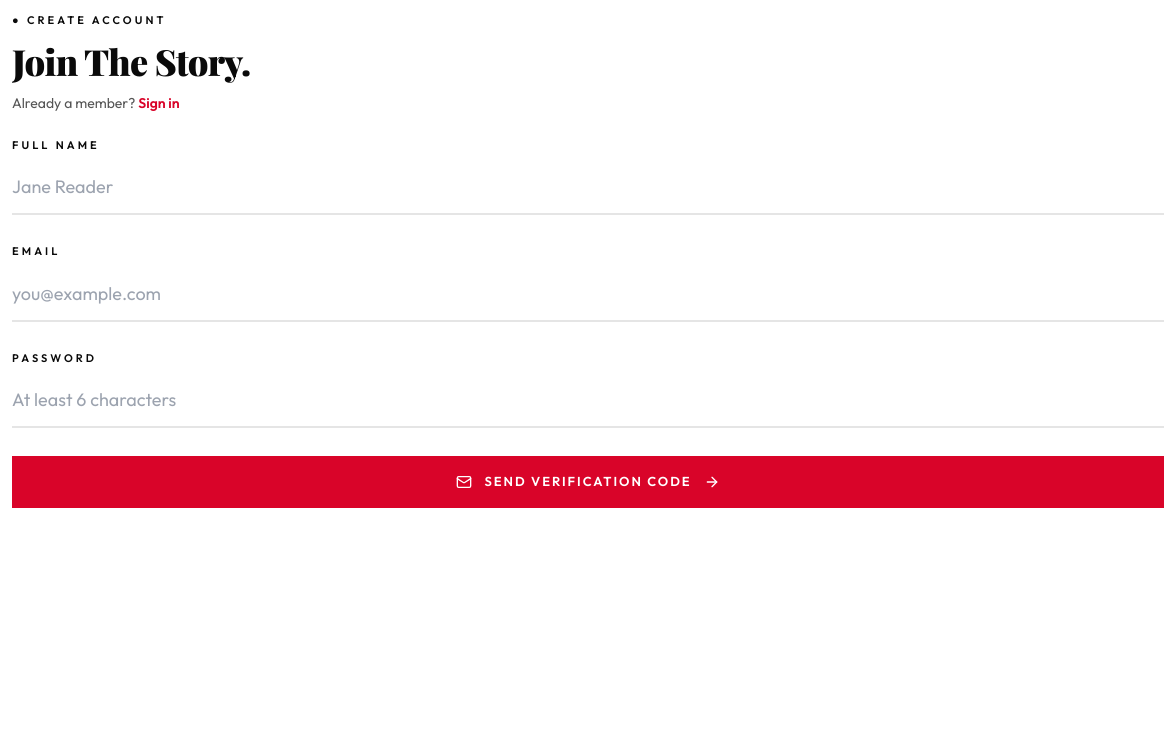
Scenario: SignupPage › shows resend button on step 2
The image size is (1176, 732).
Type "Test" into the field with placeholder "Jane Reader" at (588, 188), box [12,161,1164,215]
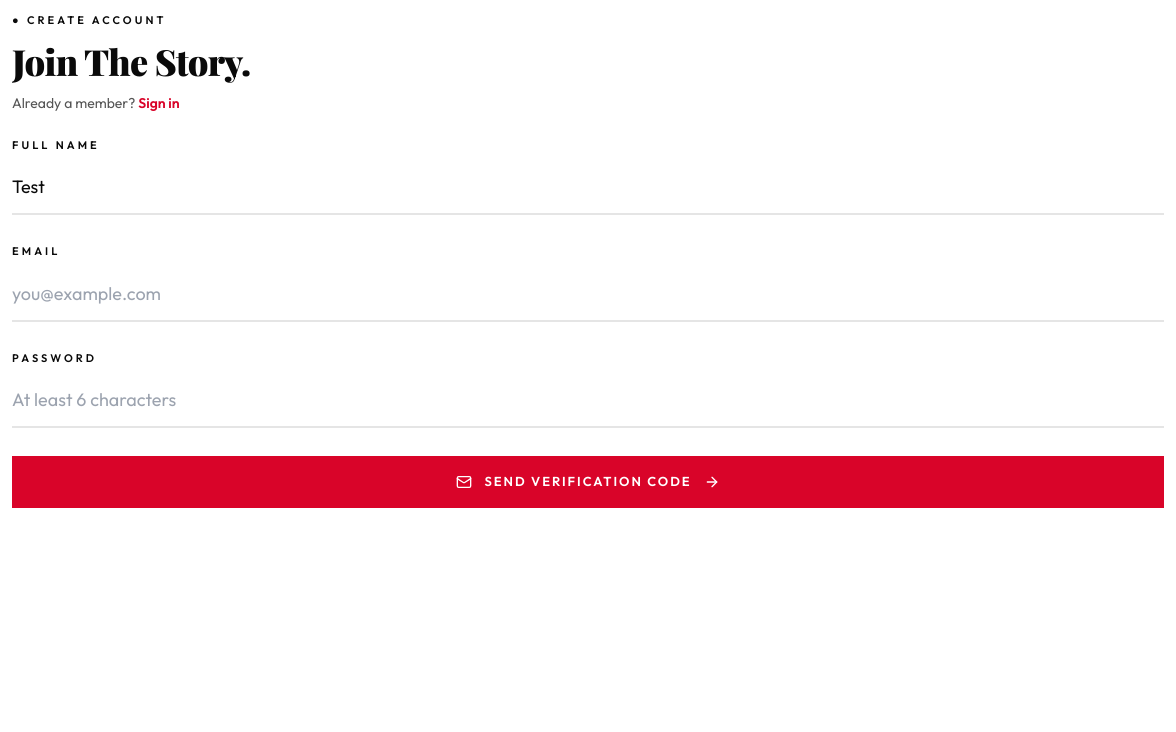
Type "a@b.com" into the field with placeholder "you@example.com" at (588, 294), box [12,268,1164,322]
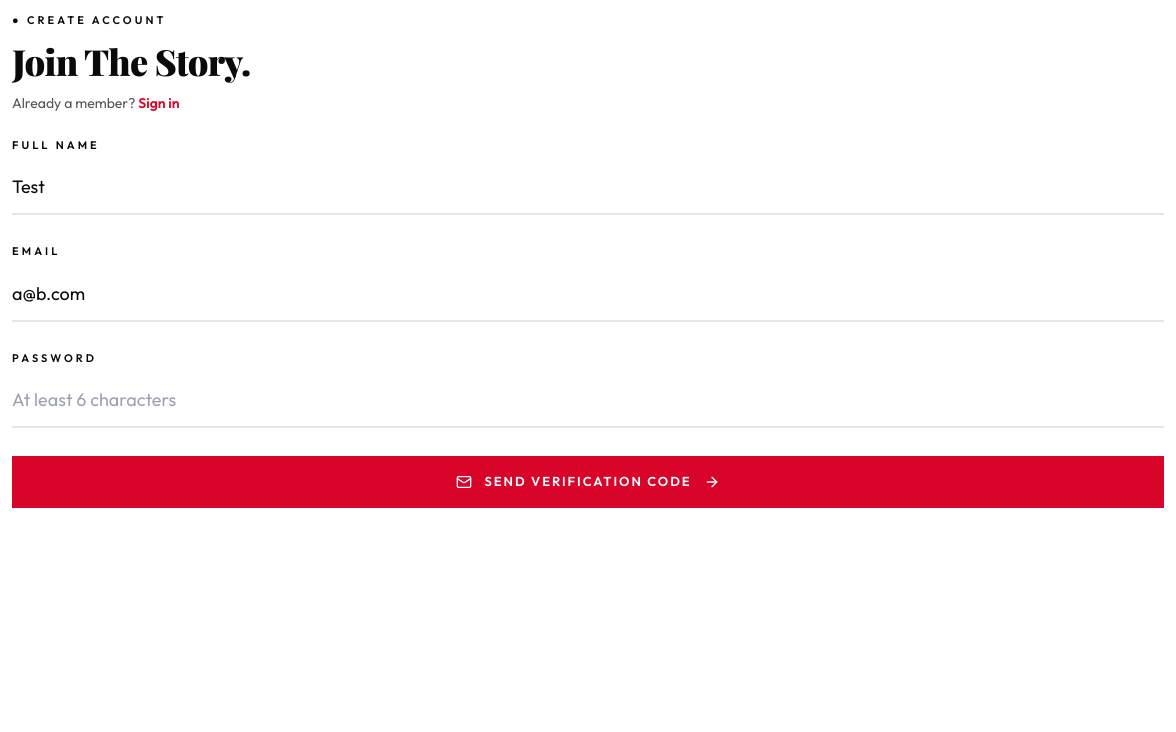
Type "pass1234" into the password field with placeholder "At least 6 characters" at (588, 401), box [12,374,1164,428]
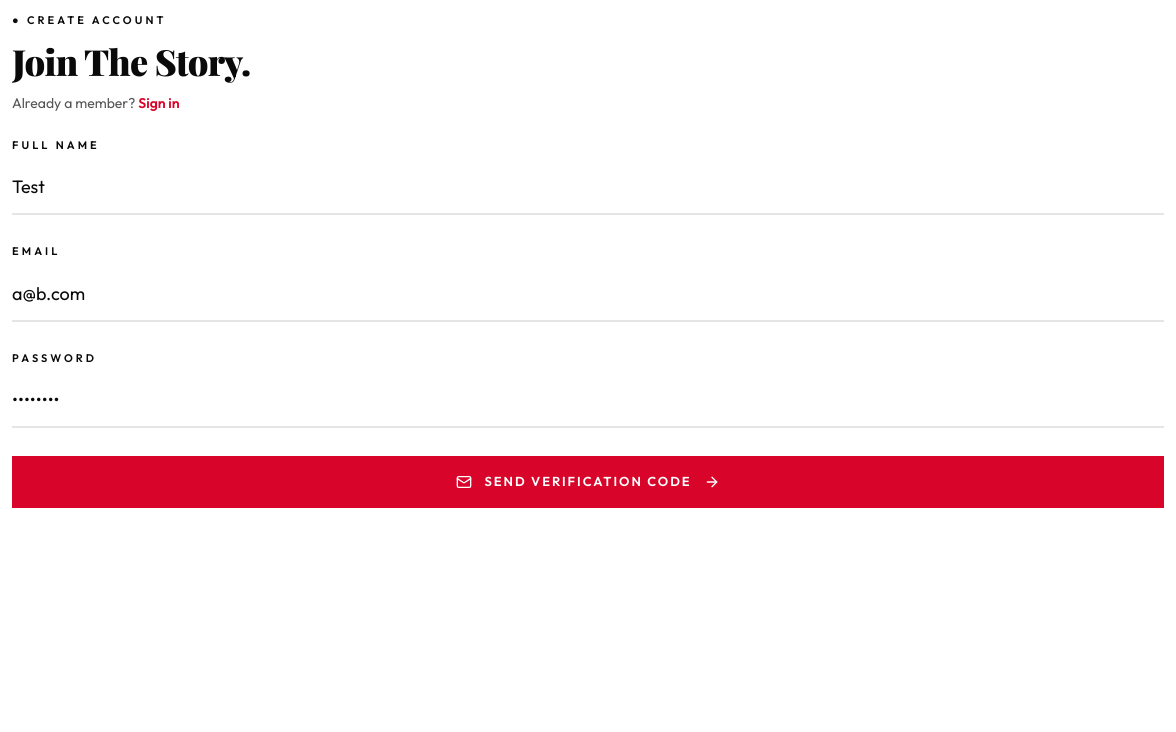
Click the button "Send Verification Code" at (588, 482), box [12,456,1164,508]
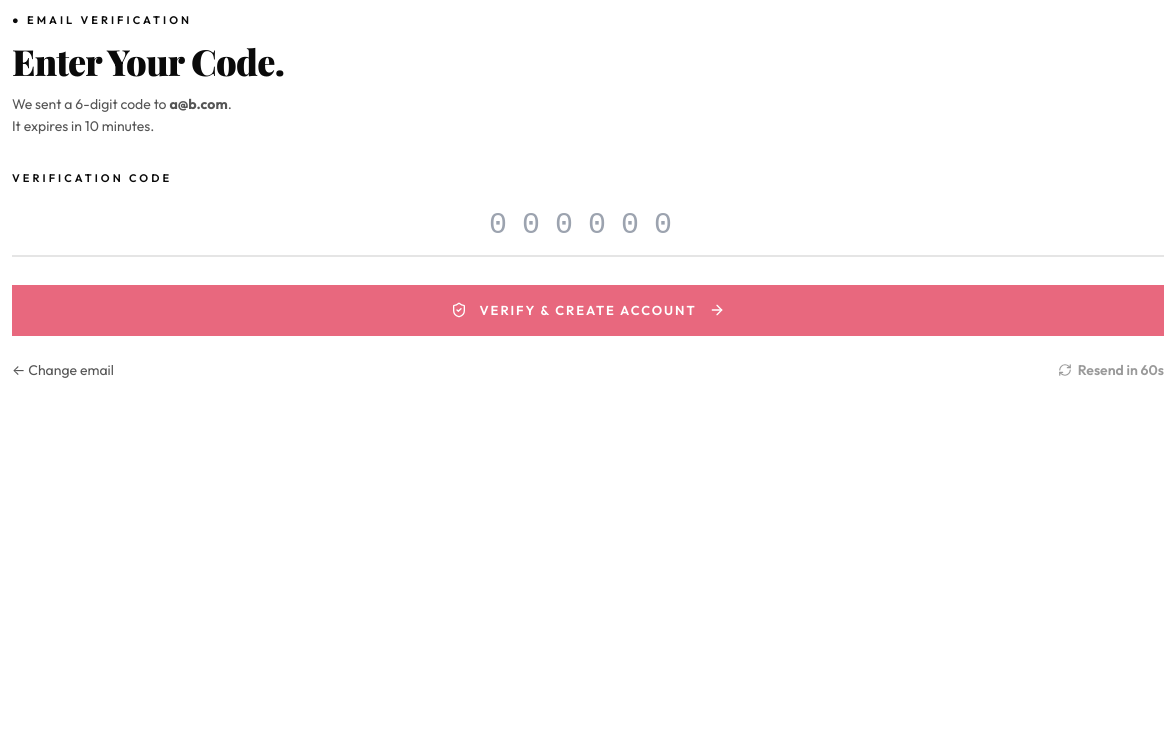
Check: the button "Resend in 60s" is shown, box [1058,360,1164,380]
